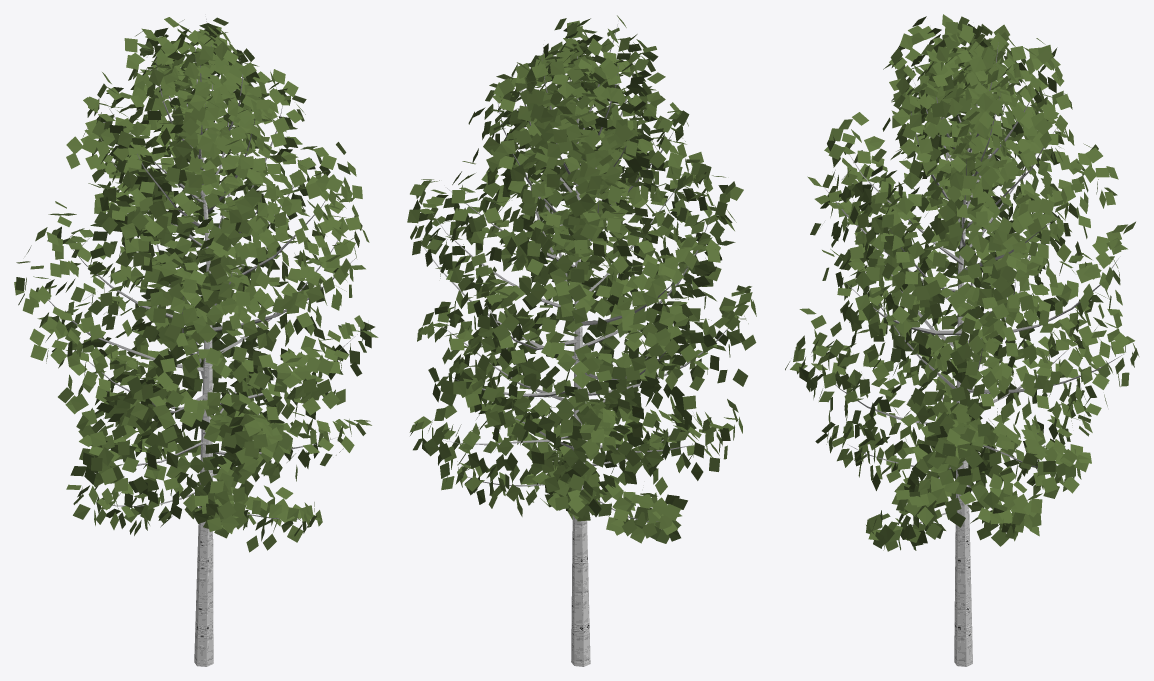
File: birch.obj
The picture shows the model from 3 angles, left to right: view 1: azimuth 30°, elevation 25°; view 2: azimuth 150°, elevation 25°; view 3: azimuth 270°, elevation 25°; orthographic projection.
Visible parts, largest first — view 1: leaves, trunk, branches; view 2: leaves, branches, trunk; view 3: leaves, branches, trunk.
Boxes of the visible parts, <box> form: leaves: <box>14,17,378,552</box>; trunk: <box>194,47,213,666</box>; branches: <box>36,19,357,519</box>; leaves: <box>407,15,756,543</box>; branches: <box>421,24,728,521</box>; trunk: <box>571,56,590,666</box>; leaves: <box>785,14,1139,551</box>; branches: <box>820,36,1123,525</box>; trunk: <box>954,108,972,666</box>.
Bounding box in the file's own units: 420 × 800 × 400.
